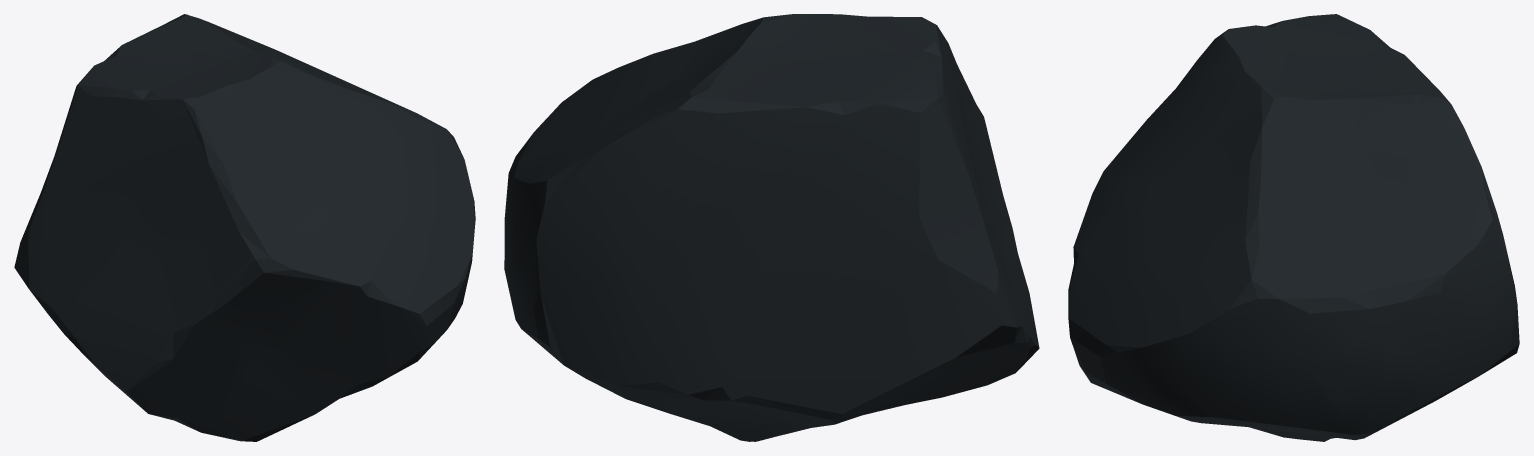
Rendered from Asteroid_m_17.FBX.
The picture shows the model from 3 angles, left to right: view 1: azimuth 30°, elevation 25°; view 2: azimuth 150°, elevation 25°; view 3: azimuth 270°, elevation 25°; orthographic projection. The views are drawn at different scales.
Visible parts, largest first — view 1: Asteroid_m_17; view 2: Asteroid_m_17; view 3: Asteroid_m_17.
Boxes of the visible parts, x1,y1,x2,y2 form: Asteroid_m_17: [14, 14, 475, 441]; Asteroid_m_17: [504, 14, 1039, 441]; Asteroid_m_17: [1068, 14, 1519, 441].
Size of the model in its own units: 951 by 771 by 876.
